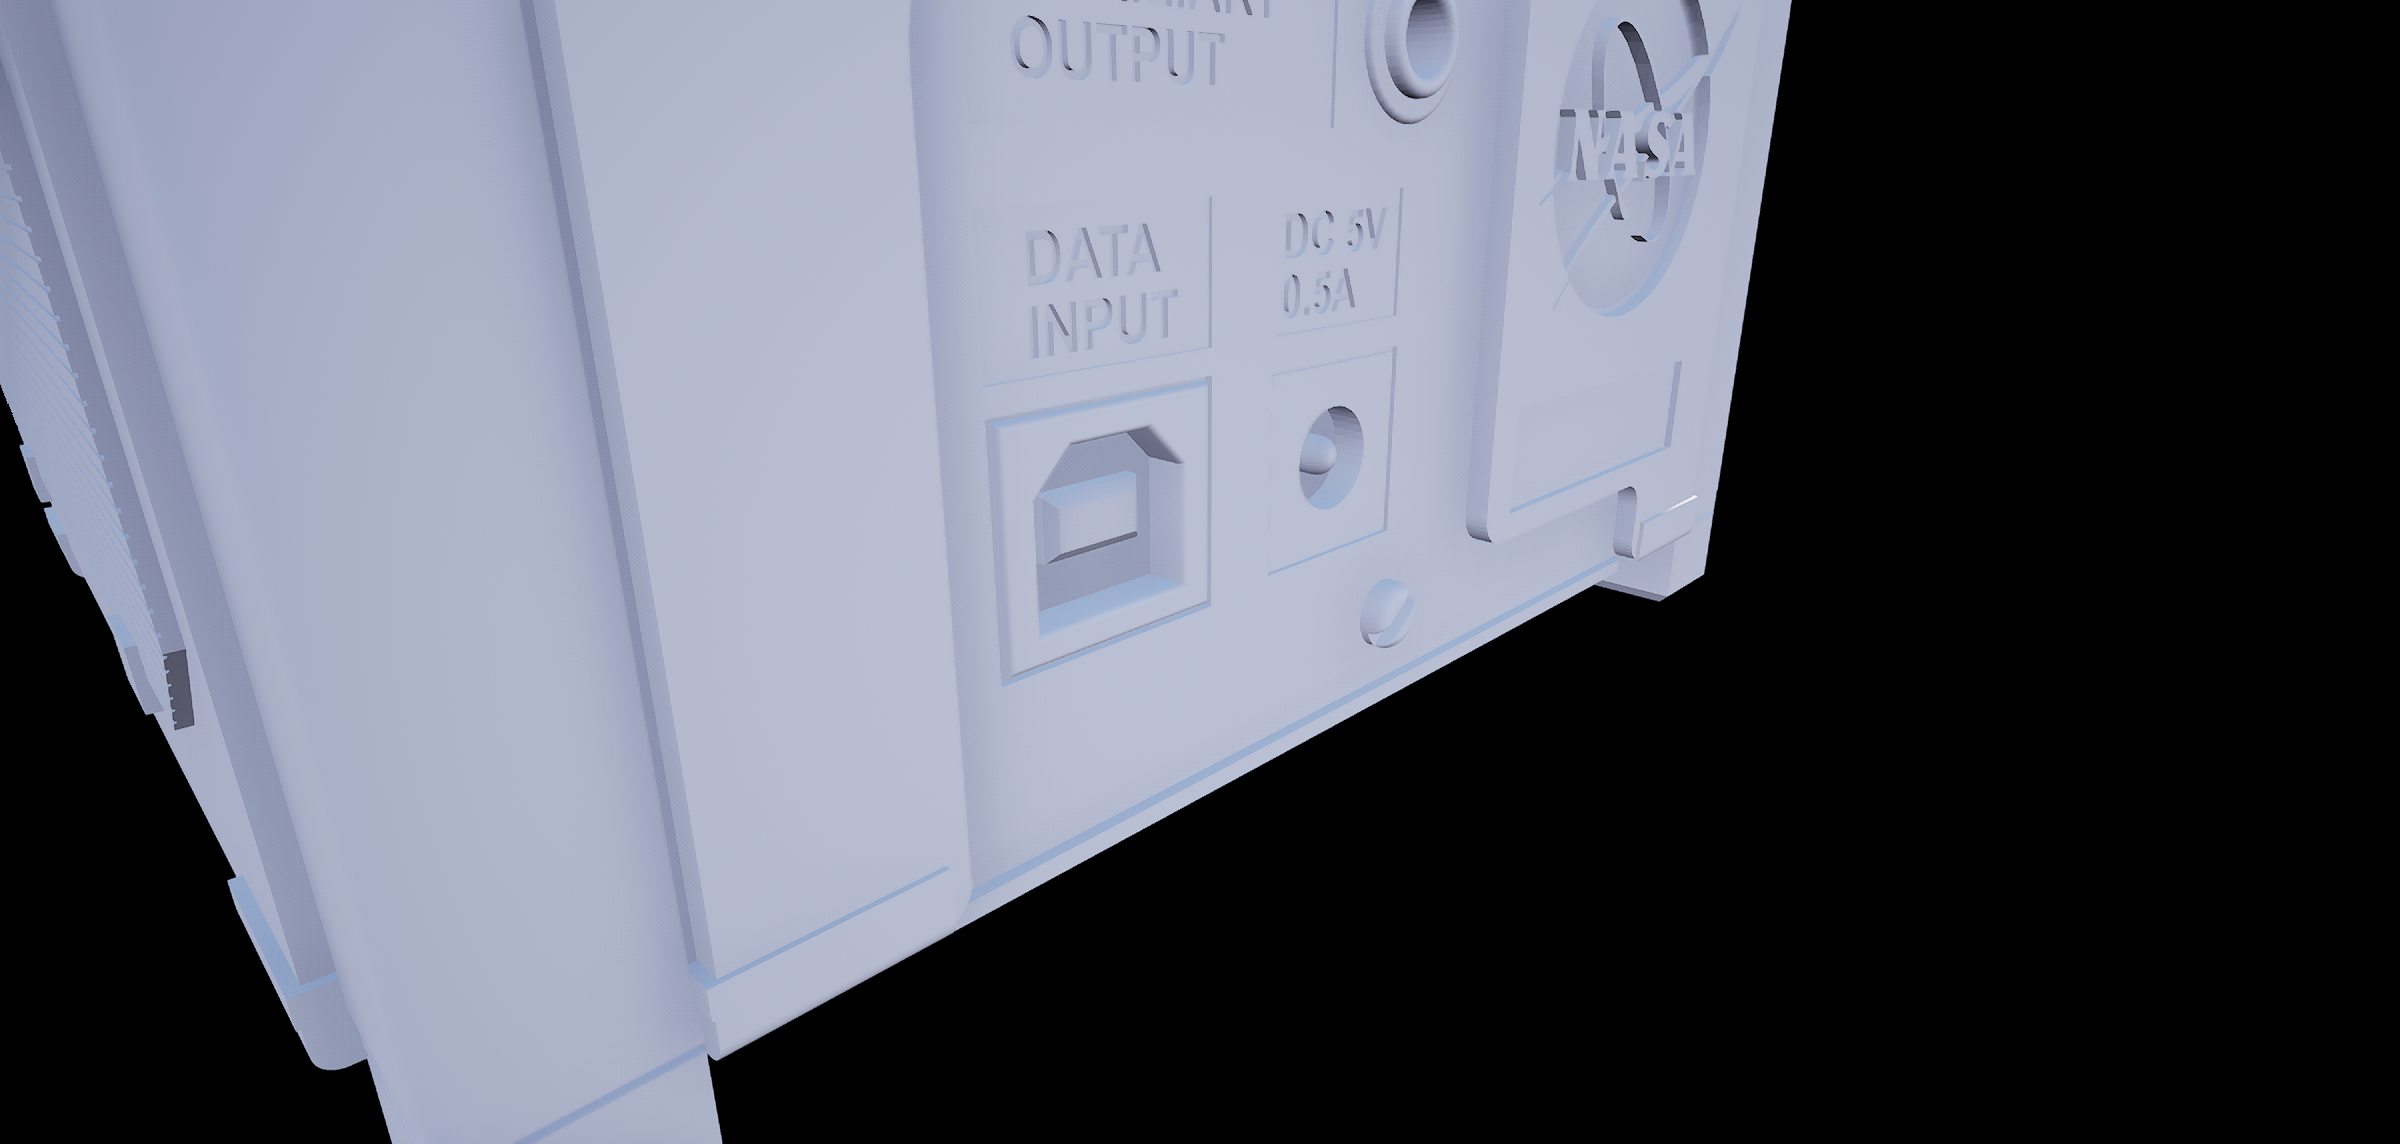aux: (1365, 2, 1476, 126)
dc: (1283, 394, 1381, 518)
usb: (1027, 444, 1202, 623)
